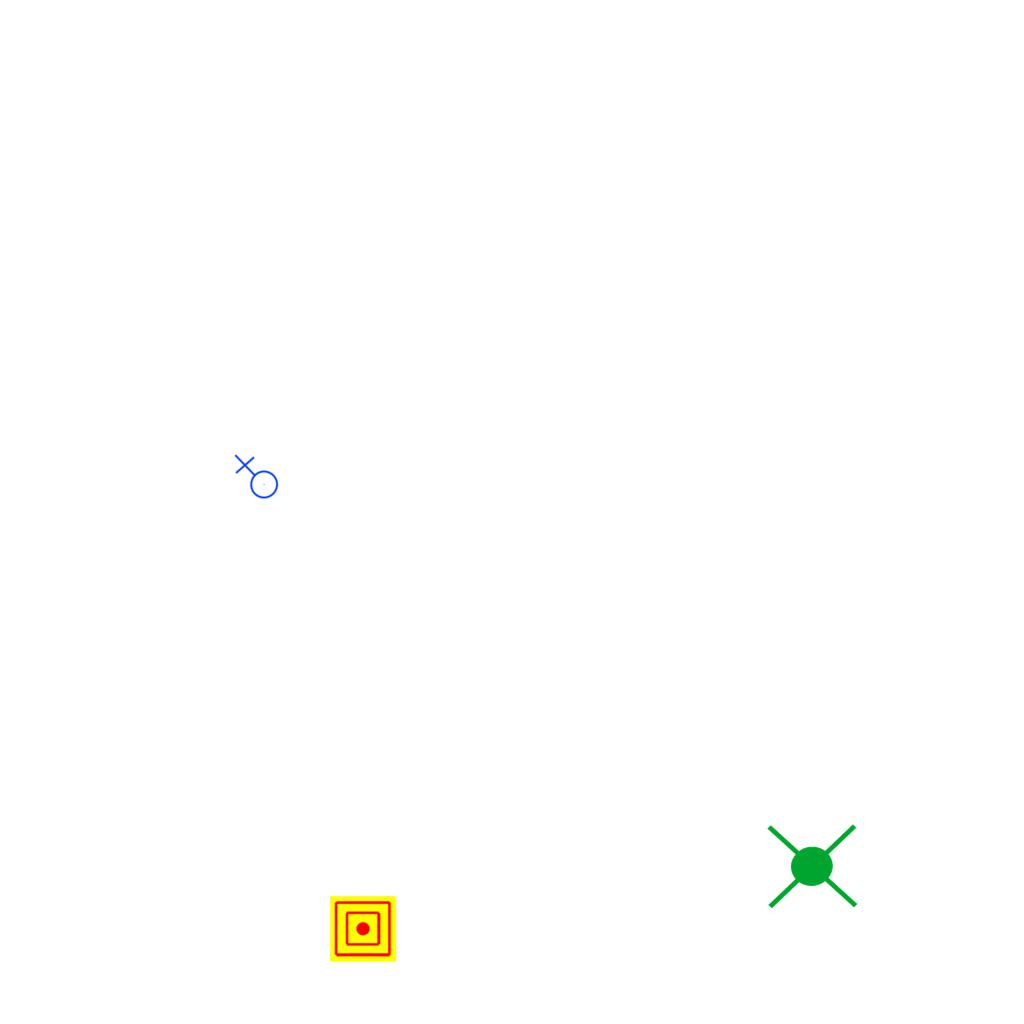Elektroanschluss_allgemein_230V_Geraeteanschlussdose_230V: (232, 454, 279, 503)
NAM-Nichtautomatischer_Melder: (330, 896, 396, 962)
Notlichtbaustein_in_Allgemeinbeleuchtug_engebaut_Einbau_(1UG_und_2UG_Aufbauvaria: (762, 816, 862, 919)
